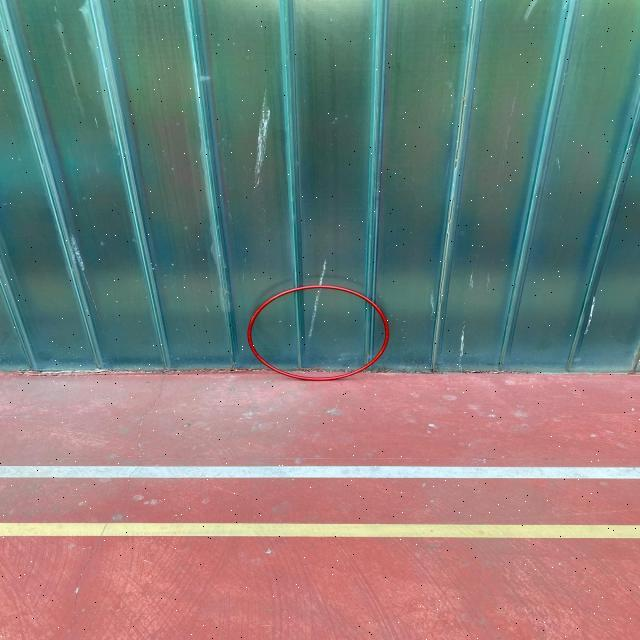Circle: (246, 286, 391, 380)
